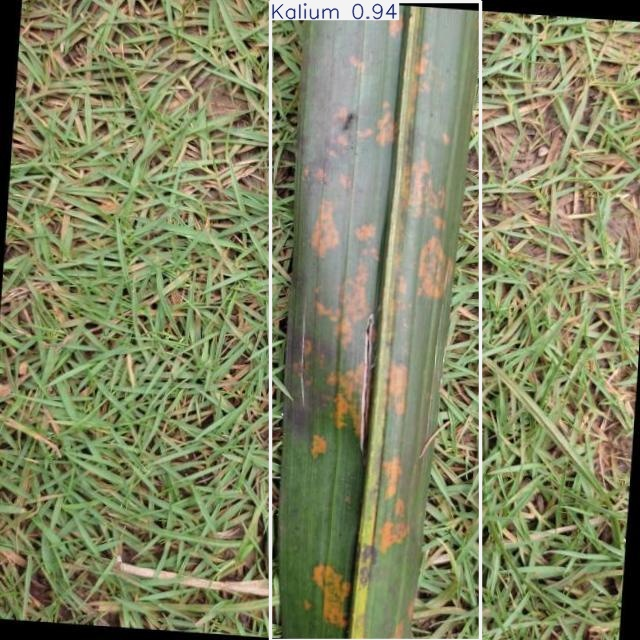Kalium: (271, 1, 481, 640)
